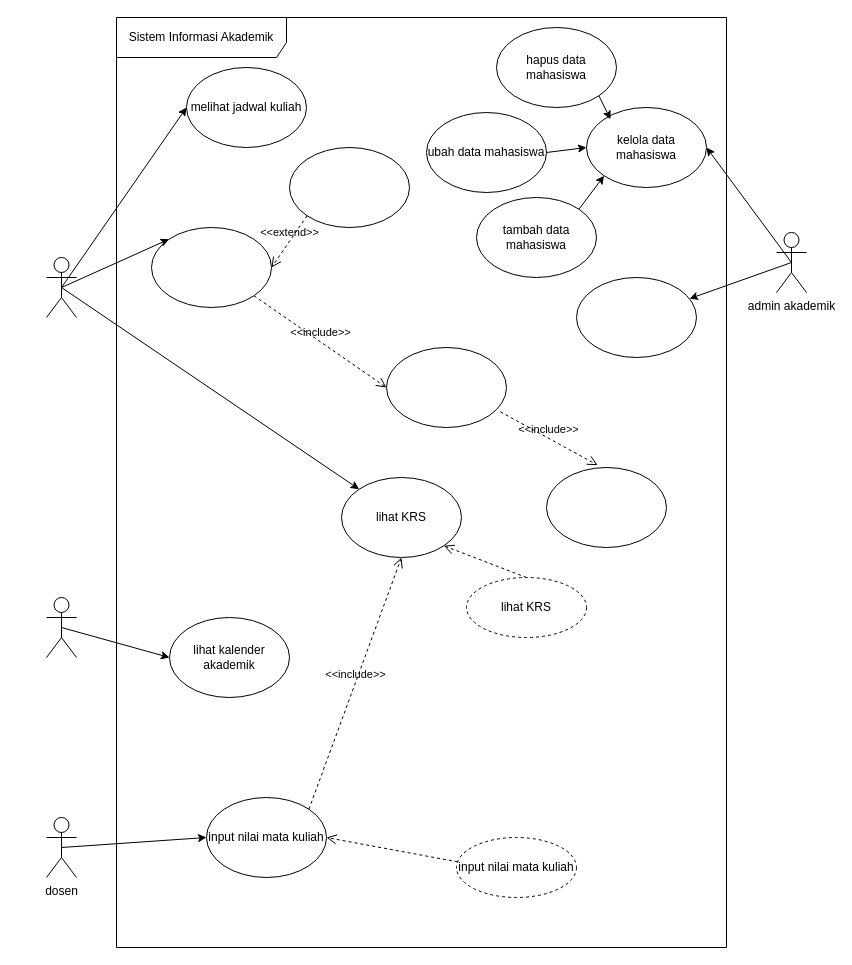
The diagram is 852 pixels wide and 965 high, and some of its shapes have lost their labels. The box of each missing label's shape, as (x1, y1, x2, y2) in pixels:
civitas akademik: (46, 596, 76, 658)
mahasiswa: (46, 256, 76, 318)
memproses persetujuan KRS: (546, 466, 666, 548)
memvalidasi KRS: (386, 346, 506, 428)
mengajukan KRS: (150, 226, 272, 308)
mengelola jadwal kuliah: (576, 276, 696, 358)
mengunduh bukti pengajuan: (288, 146, 410, 228)
